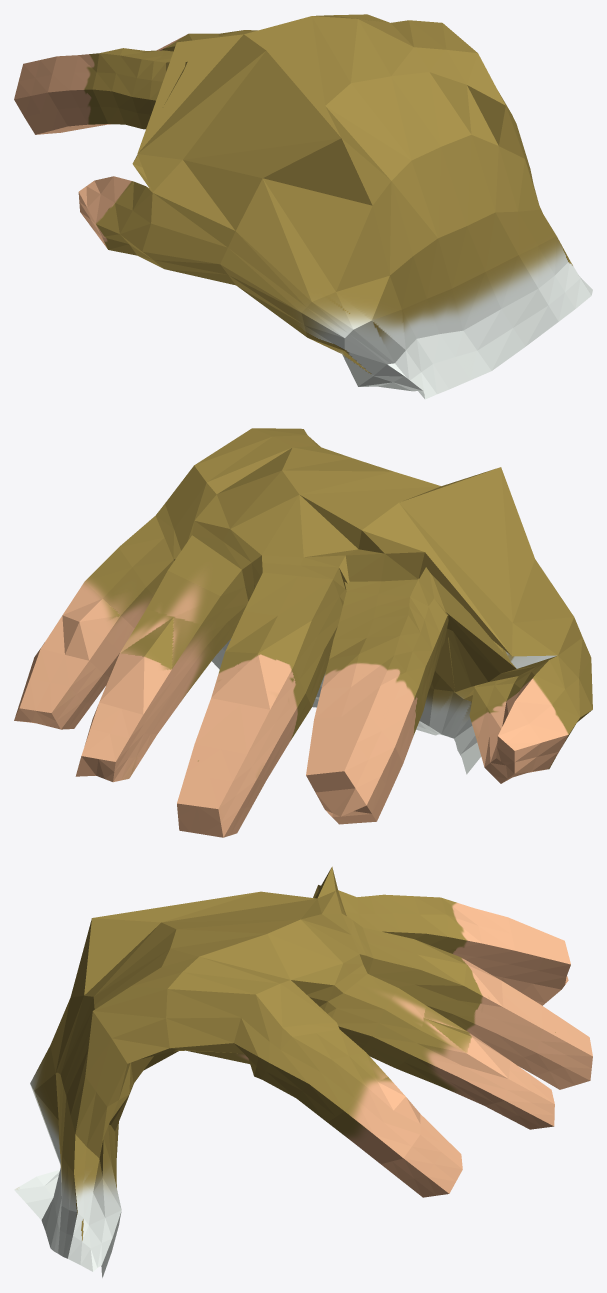
The model's file is flexion0052.obj.
The picture shows the model from 3 angles, top to bottom: view 1: azimuth 30°, elevation 25°; view 2: azimuth 150°, elevation 25°; view 3: azimuth 270°, elevation 25°; orthographic projection. The views are drawn at different scales.
Parts seen in each view (by area): view 1: Hand; view 2: Hand; view 3: Hand.
Part boxes in pixels (x1,y1,x2,y2): Hand: (14,14,592,399); Hand: (14,428,592,837); Hand: (14,866,592,1277).
Bounding box in the file's own units: 3.27 × 2.27 × 3.86.
